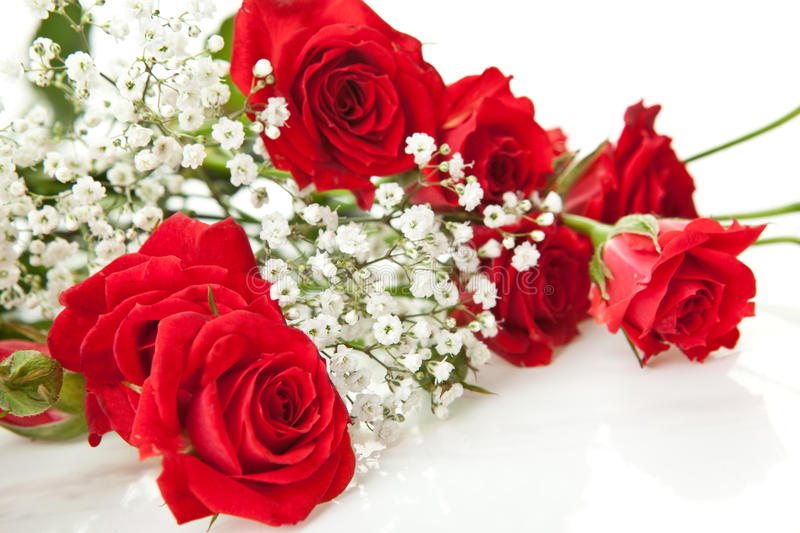RedRose: (57, 245, 321, 510), (224, 0, 431, 216), (620, 198, 762, 354), (441, 56, 557, 210), (469, 220, 582, 369), (585, 102, 688, 230)
